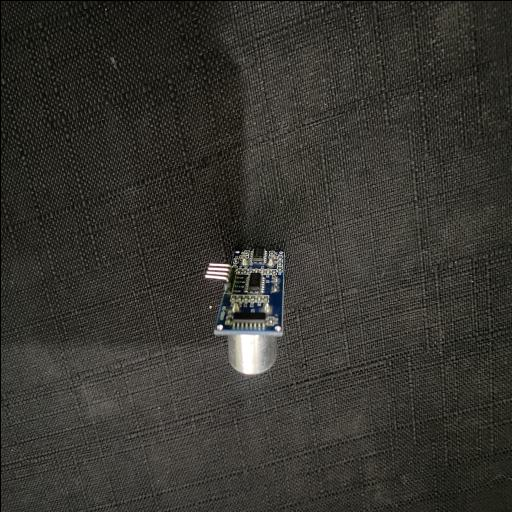Ultrasonic Sensor: (204, 248, 286, 374)
